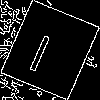I: (25, 25, 58, 73)
